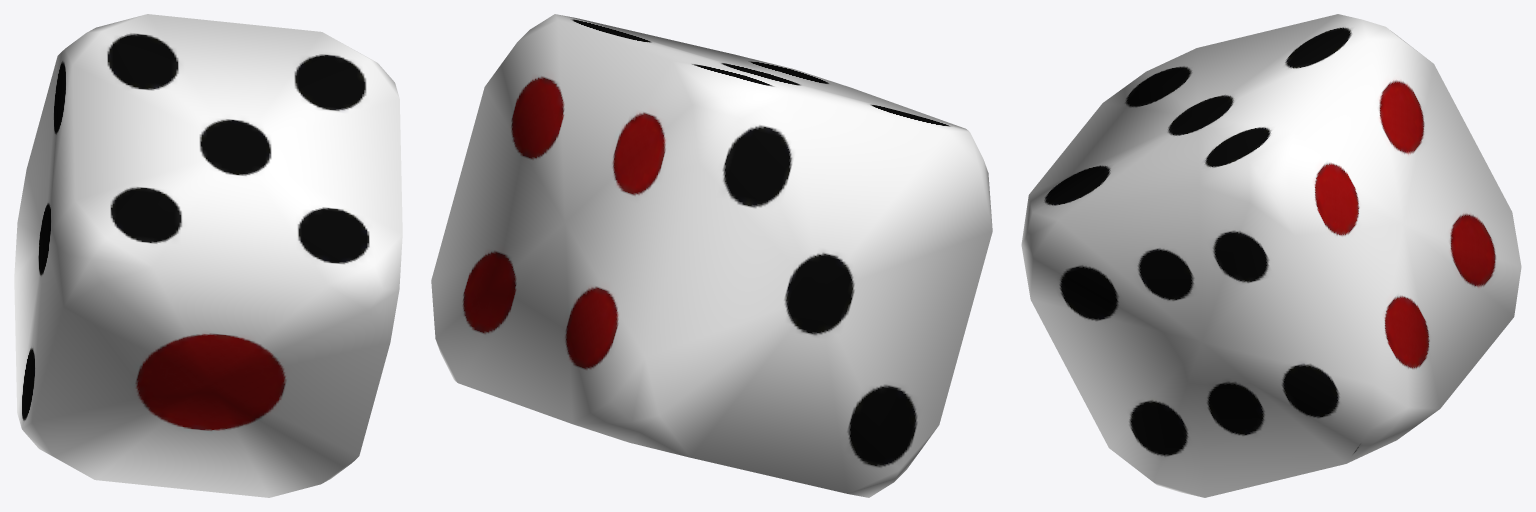
Rendered from shaizidonghua_5.FBX.
3 views of the same model, side by side, from view 1: azimuth 30°, elevation 25°; view 2: azimuth 150°, elevation 25°; view 3: azimuth 270°, elevation 25° (orthographic). The views are drawn at different scales.
Visible parts, largest first — view 1: shaizi_002; view 2: shaizi_002; view 3: shaizi_002.
Part boxes in pixels (x1,y1,x2,y2): shaizi_002: [14, 14, 402, 497]; shaizi_002: [431, 14, 992, 497]; shaizi_002: [1021, 14, 1521, 497].
Size of the model in its own units: 2.2 by 2.25 by 2.42.
